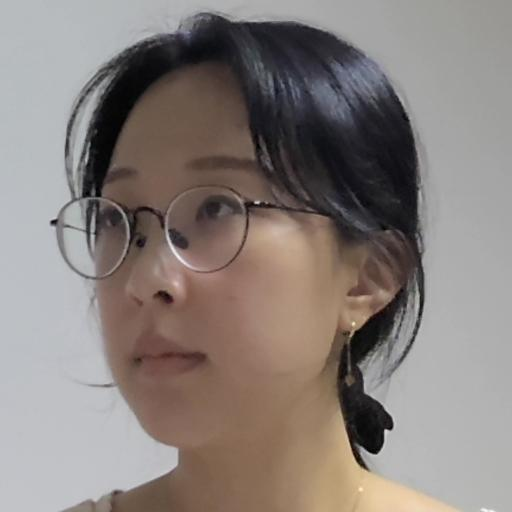no_glasses: (57, 31, 410, 460)
